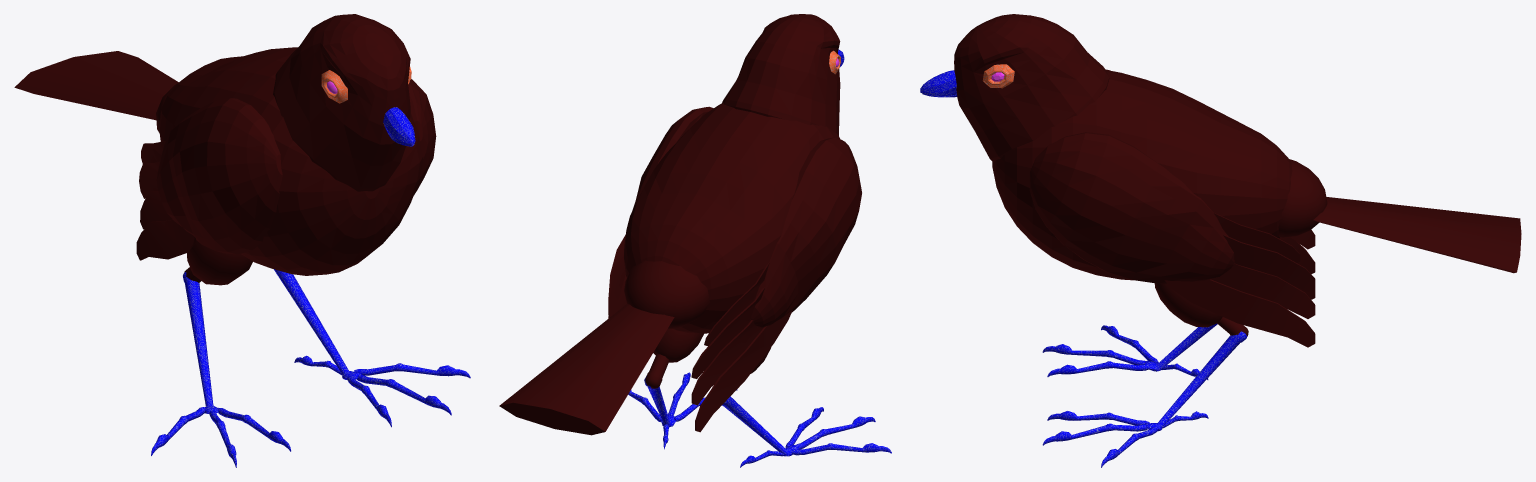
3 views of the same model, side by side, from view 1: azimuth 30°, elevation 25°; view 2: azimuth 150°, elevation 25°; view 3: azimuth 270°, elevation 25° (orthographic). The views are drawn at different scales.
Parts seen in each view (by area): view 1: SketchUp (×18); view 2: SketchUp (×17); view 3: SketchUp (×17).
Boxes of the visible parts, <box> form: SketchUp (×18): <box>14,14,470,455</box>; SketchUp (×17): <box>499,14,891,456</box>; SketchUp (×17): <box>920,14,1521,445</box>.
Size of the model in its own units: 89.22 by 164 by 115.
